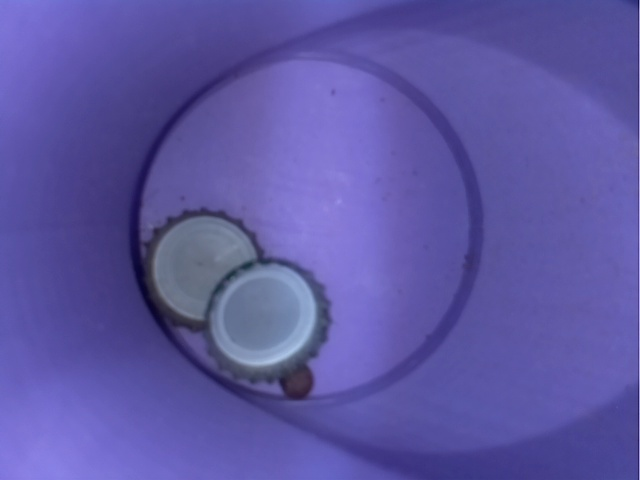capsule: (136, 199, 259, 362), (195, 254, 342, 388)
croquette: (278, 356, 314, 399)
